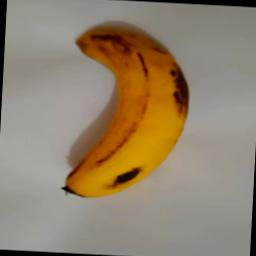Banana Unripe: (60, 24, 194, 198)
